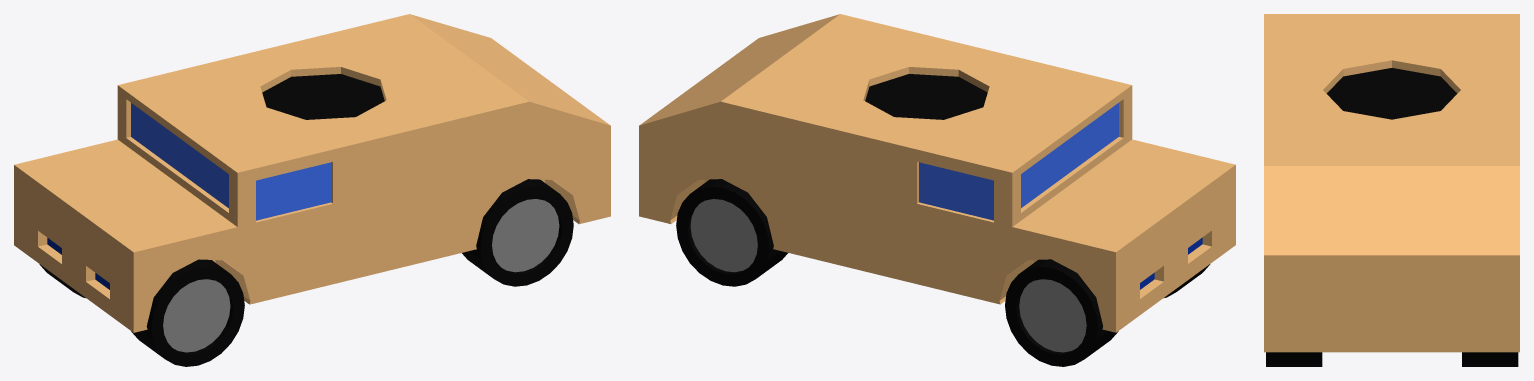
Rendered from Humve_Desert.fbx.
The picture shows the model from 3 angles, left to right: view 1: azimuth 30°, elevation 25°; view 2: azimuth 150°, elevation 25°; view 3: azimuth 270°, elevation 25°; orthographic projection. The views are drawn at different scales.
Parts seen in each view (by area): view 1: Humvee_Desert; view 2: Humvee_Desert; view 3: Humvee_Desert.
Part boxes in pixels (<box>): Humvee_Desert: <box>14,14,610,366</box>; Humvee_Desert: <box>639,14,1235,366</box>; Humvee_Desert: <box>1264,14,1519,366</box>.
Bounding box in the file's own units: 920 × 339 × 400.
